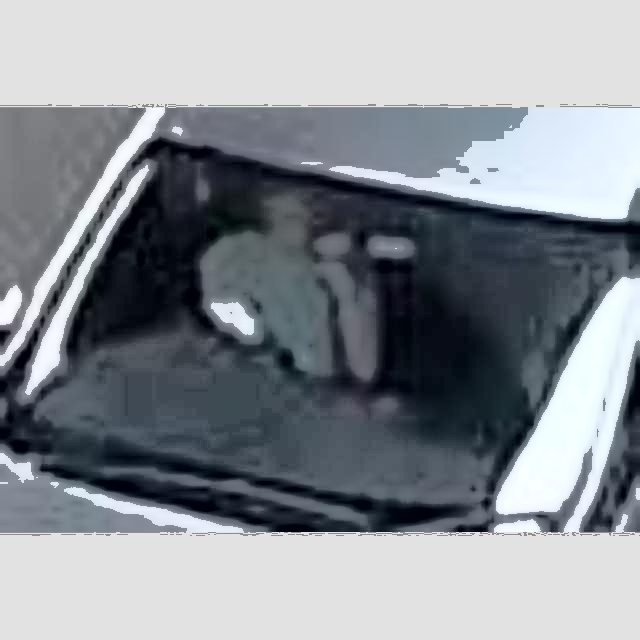tidak-pakai: (176, 186, 379, 408)
